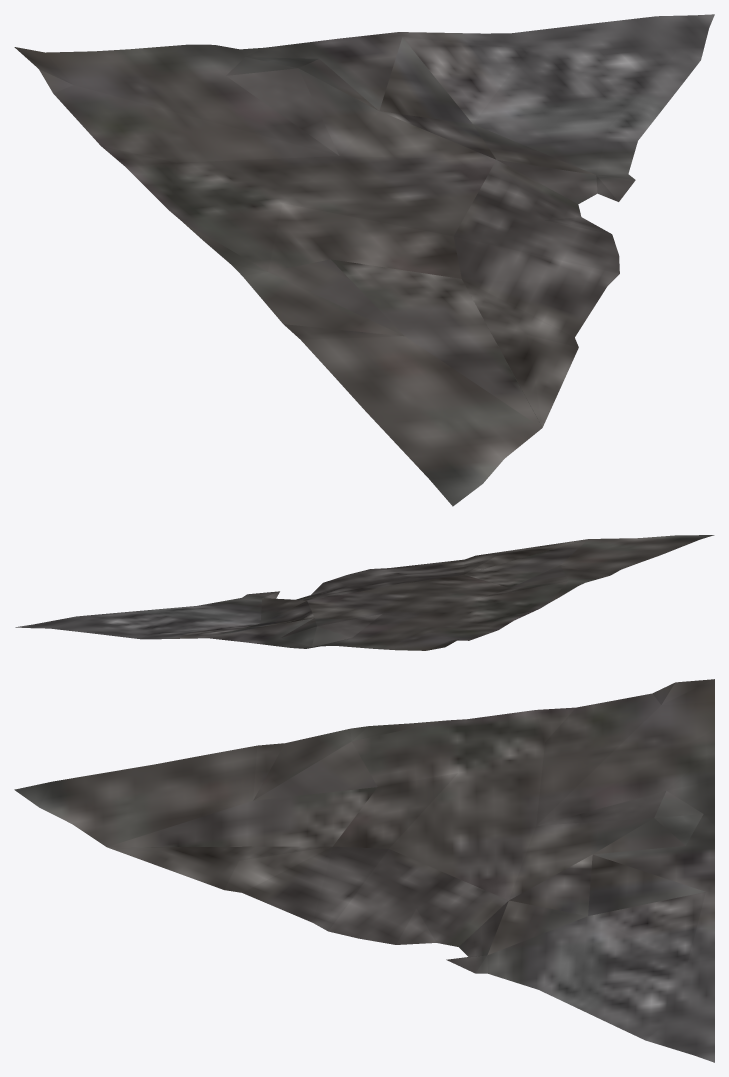
The picture shows the model from 3 angles, top to bottom: view 1: azimuth 30°, elevation 25°; view 2: azimuth 150°, elevation 25°; view 3: azimuth 270°, elevation 25°; orthographic projection. The views are drawn at different scales.
Bounding box in the file's own units: 0.2482 × 0.0469 × 0.2691.
Materials: 1 (1 with a texture image).
